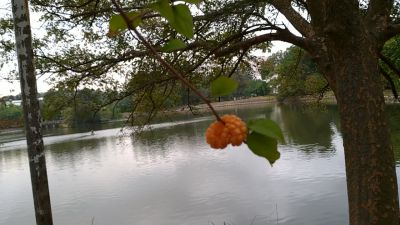eggs: (203, 112, 251, 150)
